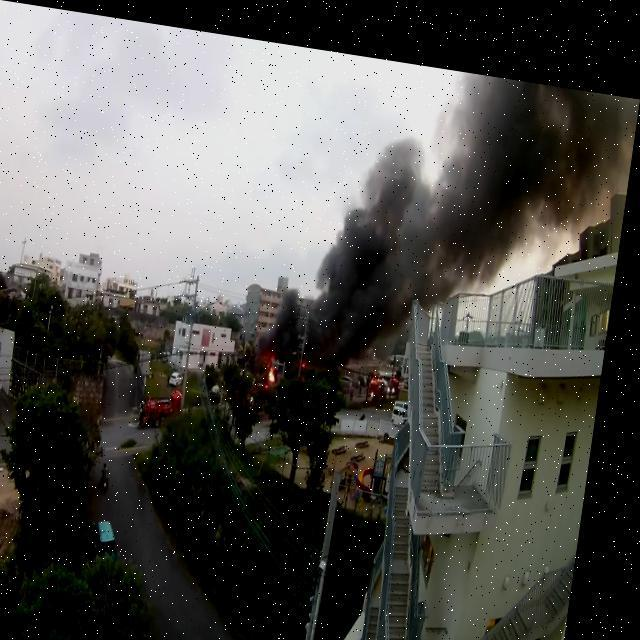Fire: (275, 358, 288, 374)
